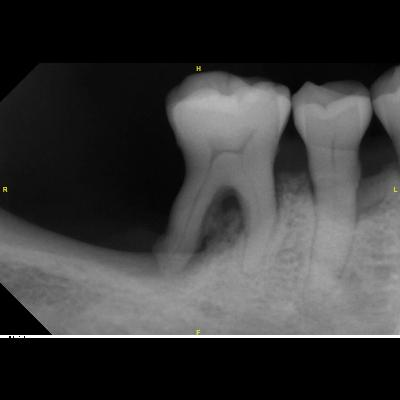tooth: (292, 77, 374, 308)
